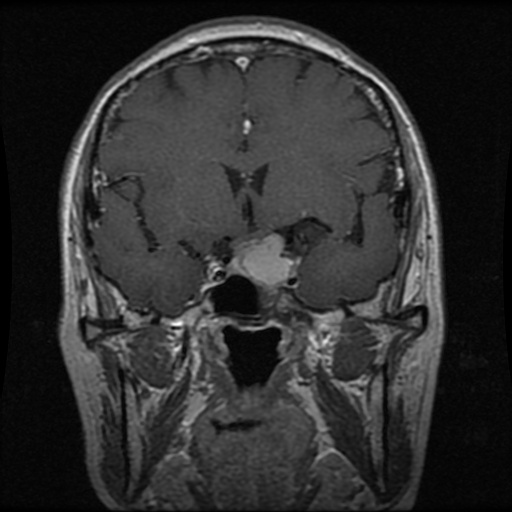pituitary: (230, 235, 293, 284)
